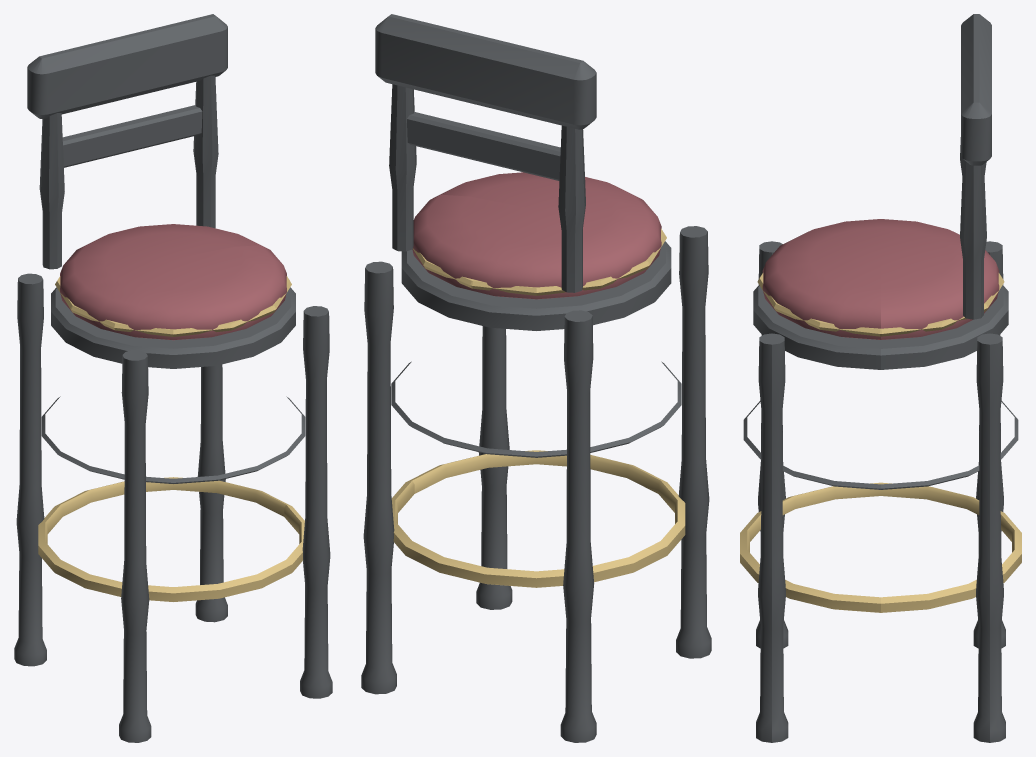
The model's file is bar-pub-and-brewery-taproom-bar-stool-with-back-ebonis-575b3c64__18395.glb.
3 views of the same model, side by side, from view 1: azimuth 30°, elevation 25°; view 2: azimuth 150°, elevation 25°; view 3: azimuth 270°, elevation 25° (orthographic). The views are drawn at different scales.
Visible parts, largest first — view 1: bar-stool-with-back-ebonised; view 2: bar-stool-with-back-ebonised; view 3: bar-stool-with-back-ebonised.
Part boxes in pixels (x1,y1,x2,y2): bar-stool-with-back-ebonised: [14, 14, 332, 742]; bar-stool-with-back-ebonised: [361, 14, 711, 742]; bar-stool-with-back-ebonised: [740, 14, 1021, 742].
Size of the model in its own units: 0.464 by 1.13 by 0.457.
